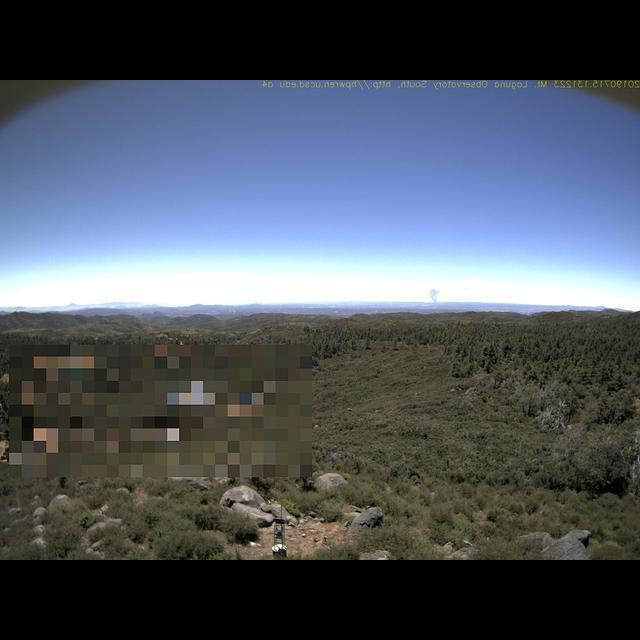Smoke: (426, 286, 443, 310)
